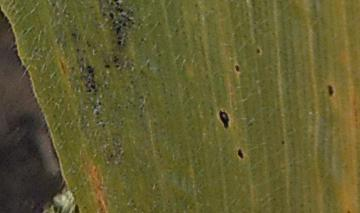tarspot: (216, 108, 231, 131), (236, 146, 245, 161), (326, 83, 334, 98), (233, 61, 241, 73), (114, 25, 122, 36), (107, 11, 115, 22), (254, 46, 262, 56), (101, 63, 111, 70), (114, 40, 122, 46), (114, 64, 121, 70), (280, 139, 286, 145), (109, 152, 114, 159)
